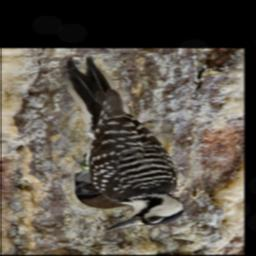Woodpecker: (61, 55, 186, 231)
